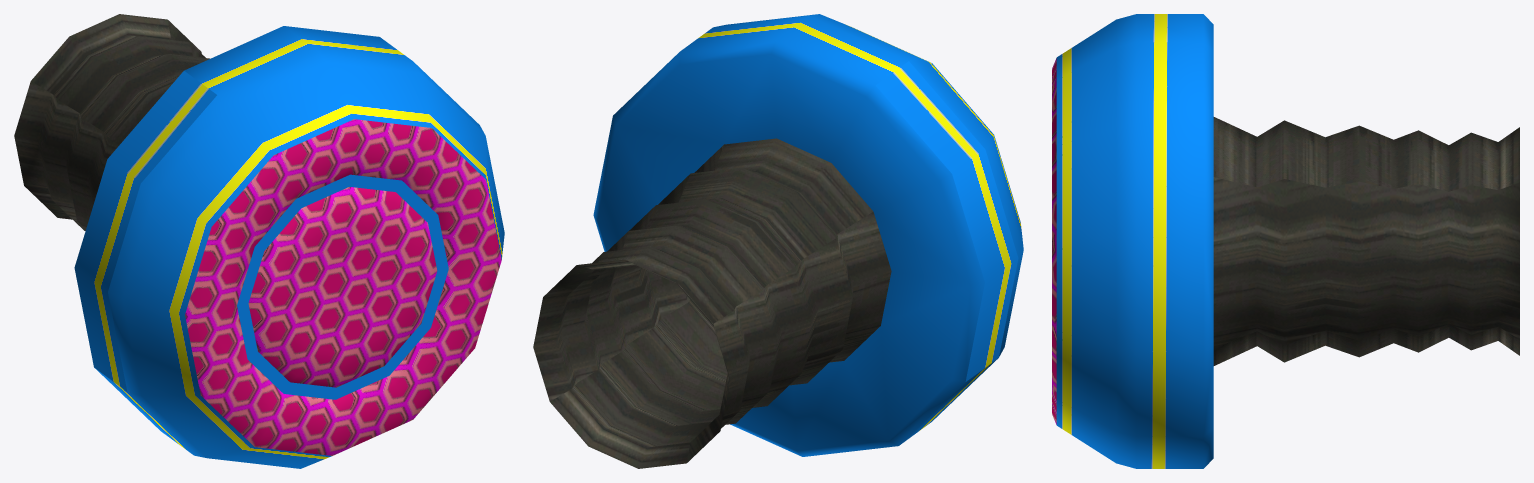
The model's file is MachineBossBoostStarPad.fbx.
3 renders of one model, left to right at view 1: azimuth 30°, elevation 25°; view 2: azimuth 150°, elevation 25°; view 3: azimuth 270°, elevation 25°, orthographic.
Parts seen in each view (by area): view 1: BossArm.001; view 2: BossArm.001; view 3: BossArm.001.
Boxes of the visible parts, x1,y1,x2,y2 form: BossArm.001: (14, 14, 504, 468); BossArm.001: (533, 14, 1023, 468); BossArm.001: (1052, 14, 1519, 468).
Size of the model in its own units: 84944 by 84944 by 87515.
3 materials, 3 textured.
